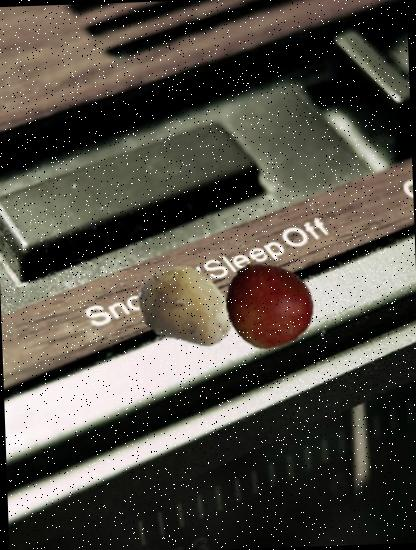Nectarine: (223, 258, 316, 352)
Potato: (130, 253, 239, 362)
